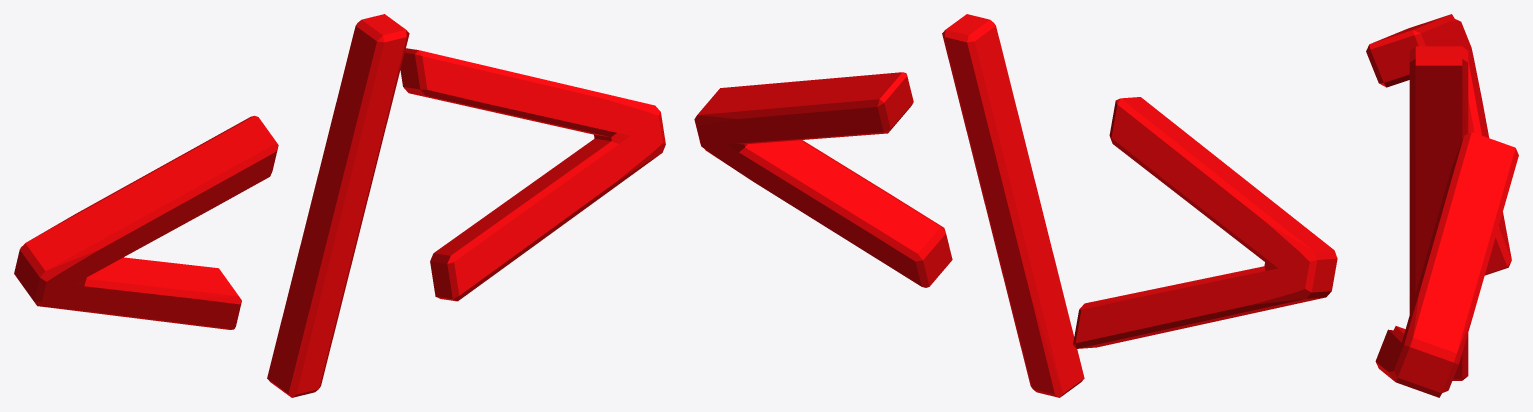
3 views of the same model, side by side, from view 1: azimuth 30°, elevation 25°; view 2: azimuth 150°, elevation 25°; view 3: azimuth 270°, elevation 25° (orthographic). The views are drawn at different scales.
Visible parts, largest first — view 1: Text; view 2: Text; view 3: Text.
Part boxes in pixels (bbox=[...]): Text: bbox=[14, 14, 665, 397]; Text: bbox=[694, 14, 1337, 397]; Text: bbox=[1366, 14, 1518, 397].
Bounding box in the file's own units: 3.35 × 1.75 × 0.6547.
